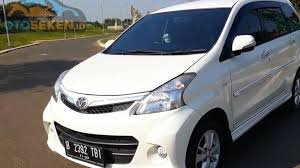mobil: (45, 1, 300, 168)
